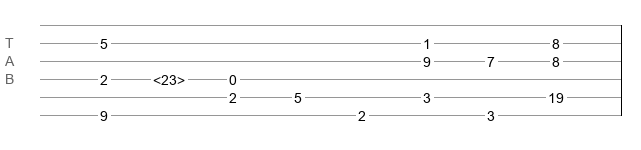0: (229, 72, 237, 82)
1: (423, 36, 431, 46)
19: (548, 90, 564, 100)
2: (100, 72, 108, 82), (229, 90, 237, 100), (358, 108, 366, 118)
3: (423, 90, 431, 100), (487, 108, 495, 118)
5: (100, 36, 108, 46), (294, 90, 302, 100)
7: (487, 54, 495, 64)
8: (552, 36, 560, 46), (552, 54, 560, 64)
9: (100, 108, 108, 118), (423, 54, 431, 64)
harmonic: (153, 72, 185, 82)
